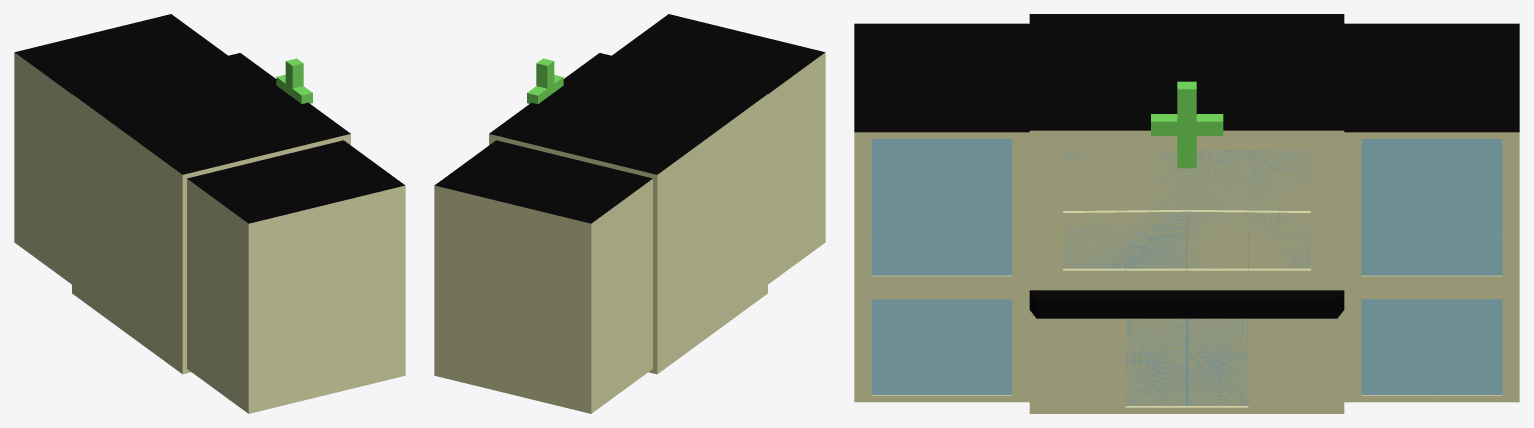
Rendered from hospital.fbx.
The picture shows the model from 3 angles, left to right: view 1: azimuth 30°, elevation 25°; view 2: azimuth 150°, elevation 25°; view 3: azimuth 270°, elevation 25°; orthographic projection. The views are drawn at different scales.
Parts seen in each view (by area): view 1: Hospital, Cross; view 2: Hospital, Cross; view 3: Hospital, Cross.
Part boxes in pixels (box(x1,y1,x2,y2)): Hospital: box(14, 14, 405, 413); Cross: box(276, 58, 312, 103); Hospital: box(434, 14, 825, 413); Cross: box(527, 58, 563, 104); Hospital: box(854, 14, 1519, 413); Cross: box(1151, 81, 1223, 168).
Bounding box in the file's own units: 593 × 723 × 1329.
